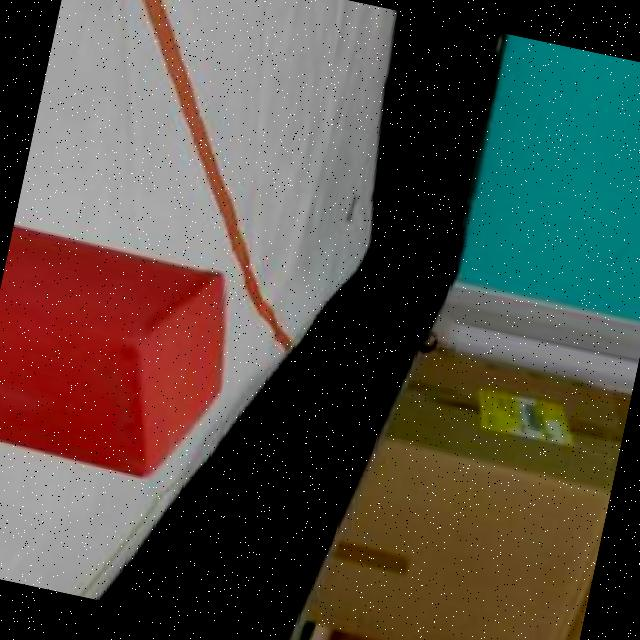redbox: (0, 223, 246, 488)
